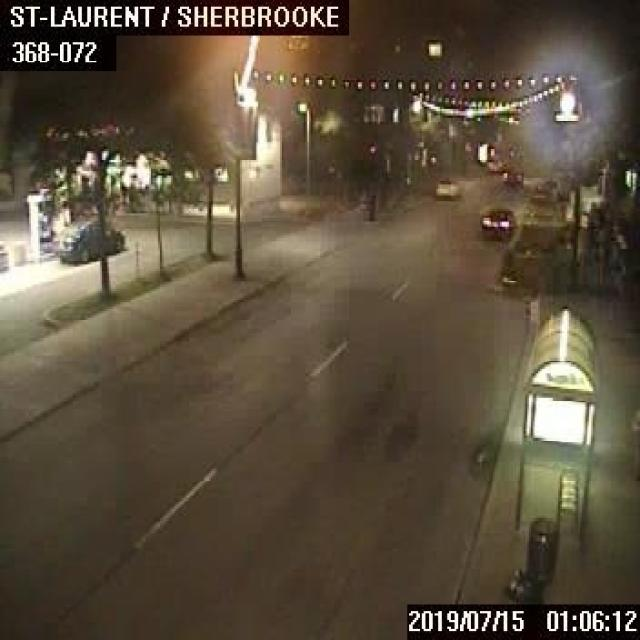vehicle: (51, 218, 124, 261), (478, 206, 515, 238), (434, 175, 462, 198), (504, 167, 522, 182)
